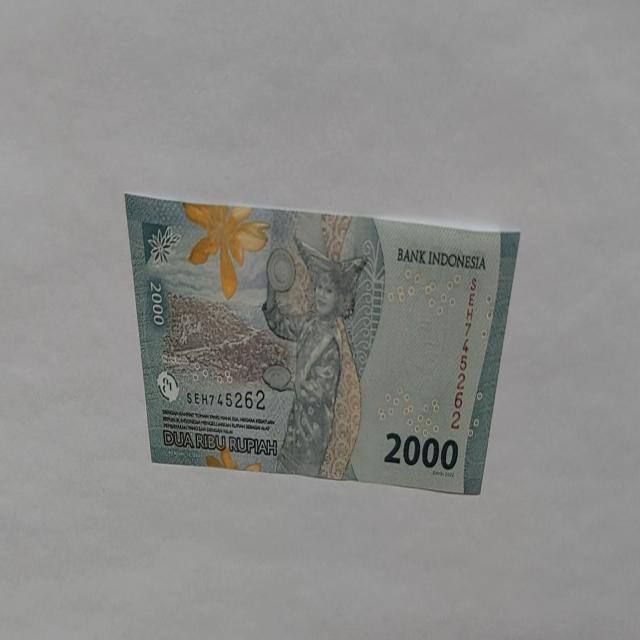dua ribu rupiah: (124, 193, 520, 496), (260, 236, 366, 480), (182, 201, 270, 300)
